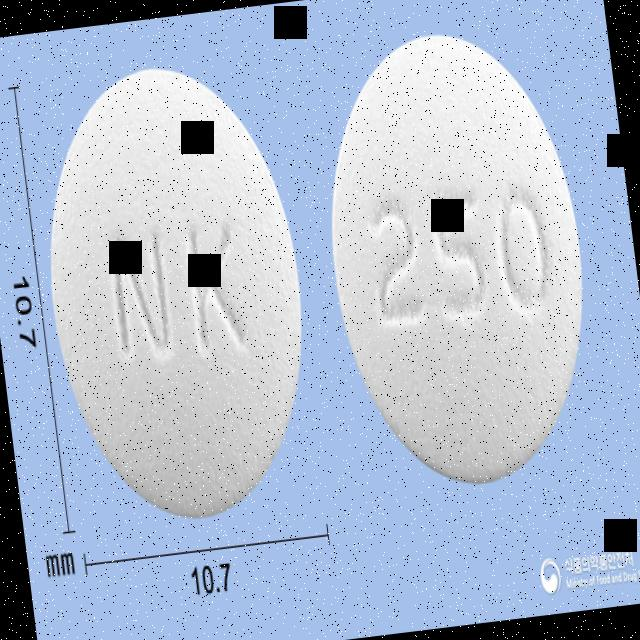Ciproc: (303, 10, 614, 507), (23, 50, 332, 538)
